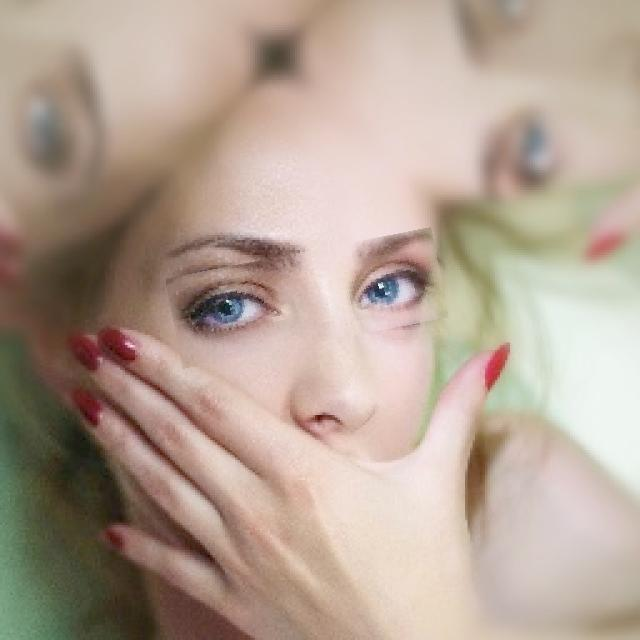no-glasses: (169, 239, 446, 357)
